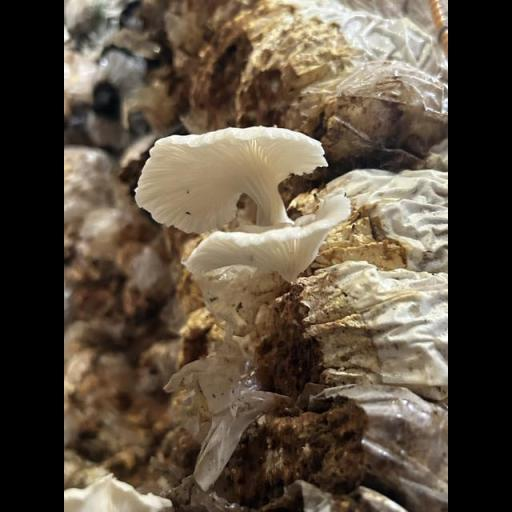White Oyster Mushroom: (125, 123, 374, 294)
